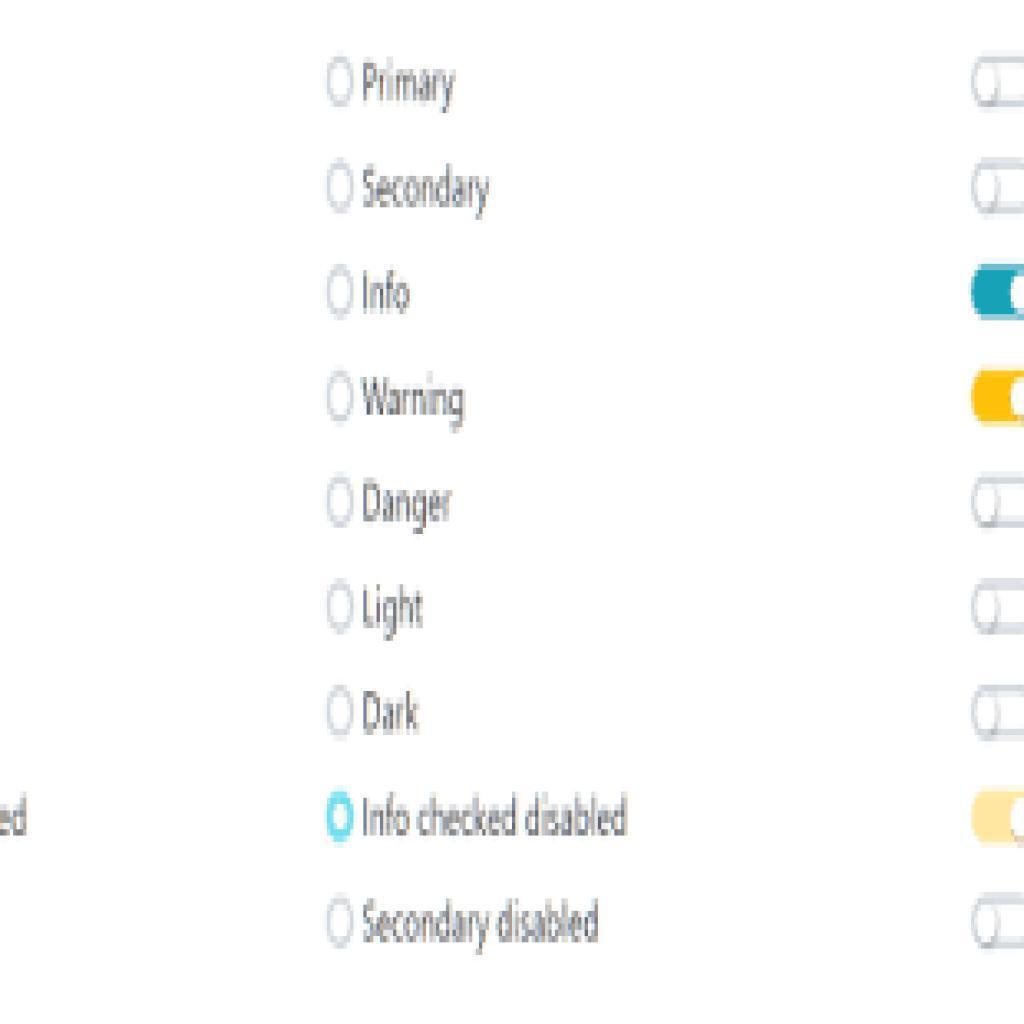radio: (320, 887, 362, 950), (322, 783, 358, 852), (319, 681, 359, 739), (322, 368, 360, 425), (323, 260, 360, 318), (325, 54, 357, 119), (322, 473, 356, 532), (322, 159, 356, 216), (322, 575, 356, 630)
